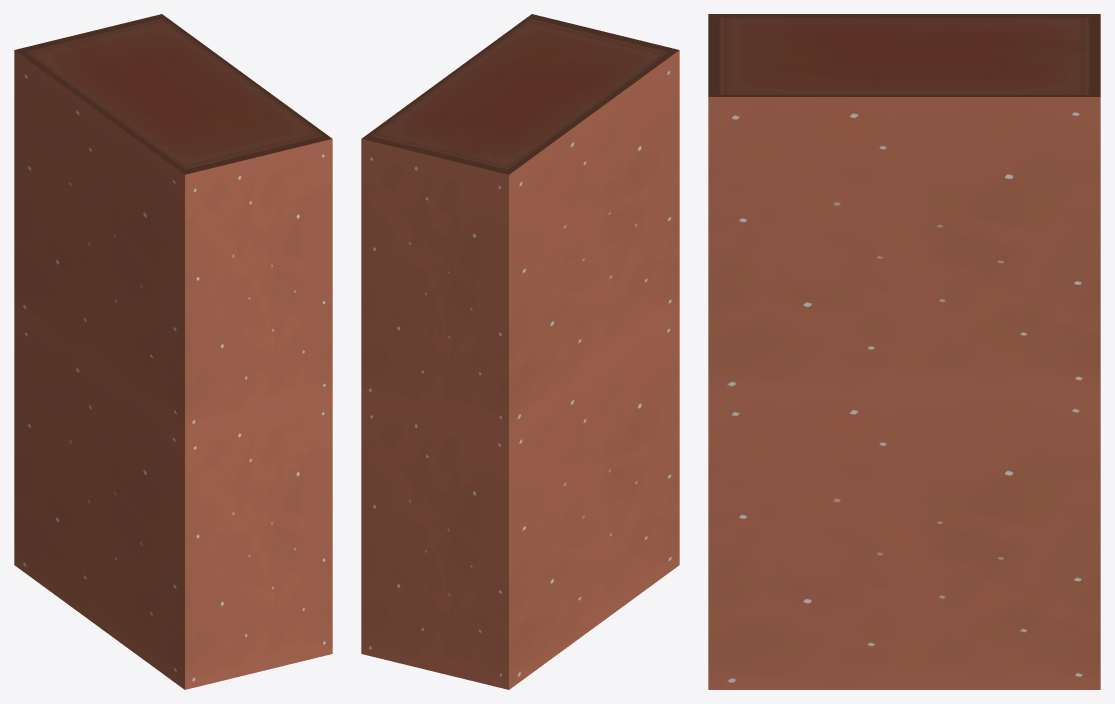
File: WallBlock 318.fbx
3 renders of one model, left to right at view 1: azimuth 30°, elevation 25°; view 2: azimuth 150°, elevation 25°; view 3: azimuth 270°, elevation 25°, orthographic. The views are drawn at different scales.
Parts seen in each view (by area): view 1: WallBlock 318; view 2: WallBlock 318; view 3: WallBlock 318.
Part boxes in pixels (bbox=[...]): WallBlock 318: bbox=[14, 14, 332, 689]; WallBlock 318: bbox=[361, 14, 679, 689]; WallBlock 318: bbox=[708, 14, 1100, 689].
Size of the model in its own units: 0.6 by 2 by 1.2.
